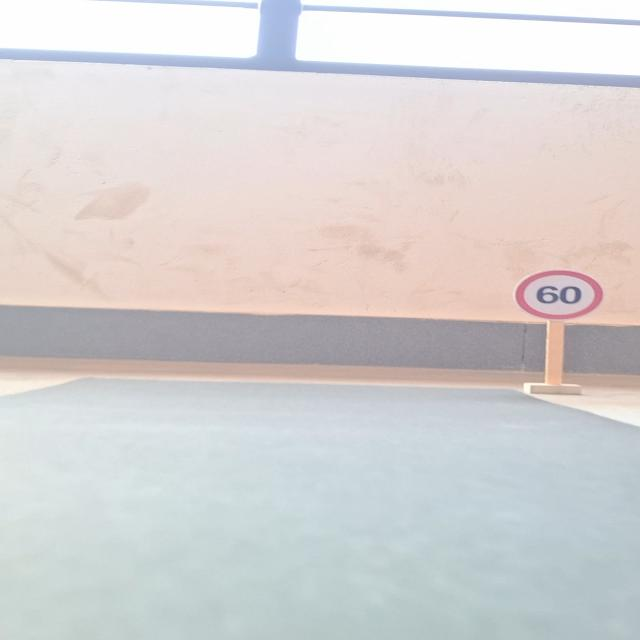Speed60: (512, 265, 607, 321)
